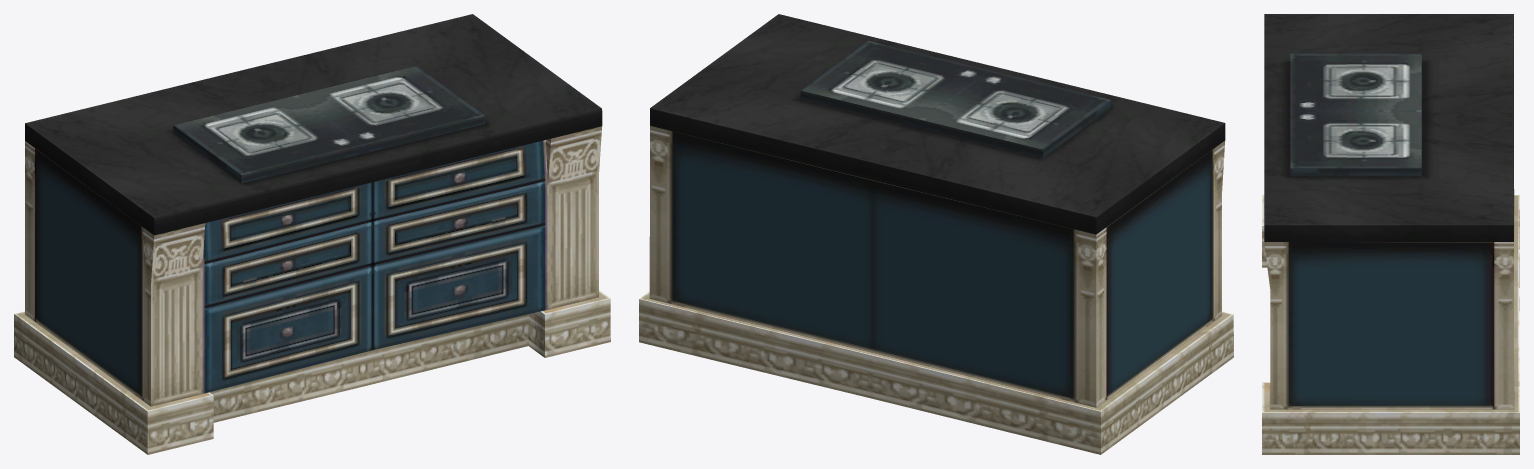
Rendered from furni_0201120_03.FBX.
3 renders of one model, left to right at view 1: azimuth 30°, elevation 25°; view 2: azimuth 150°, elevation 25°; view 3: azimuth 270°, elevation 25°, orthographic. The views are drawn at different scales.
Parts seen in each view (by area): view 1: furni_0201120_03; view 2: furni_0201120_03; view 3: furni_0201120_03.
Boxes of the visible parts, bbox=[...] form: furni_0201120_03: bbox=[14, 14, 610, 454]; furni_0201120_03: bbox=[639, 14, 1233, 454]; furni_0201120_03: bbox=[1262, 14, 1519, 454].
Size of the model in its own units: 165 by 82.8 by 82.62.
Materials: 1 (1 with a texture image).
